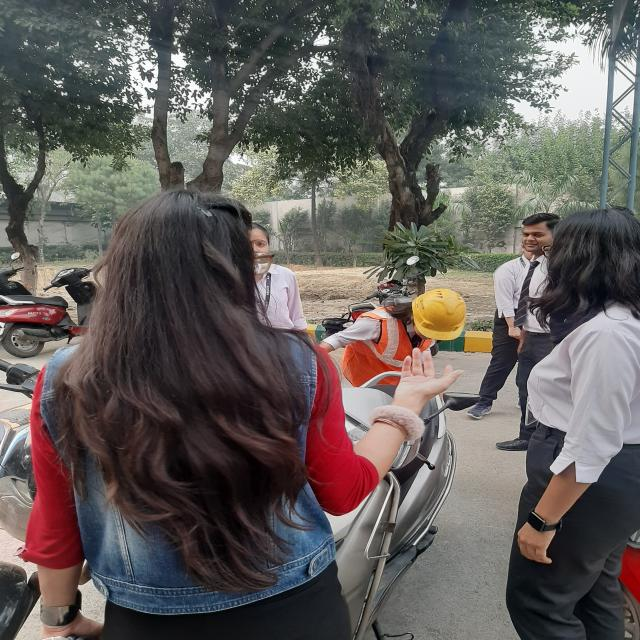safe: (318, 288, 467, 403)
unsafe: (25, 184, 446, 640), (504, 204, 640, 640), (507, 212, 561, 452), (245, 224, 310, 346)
